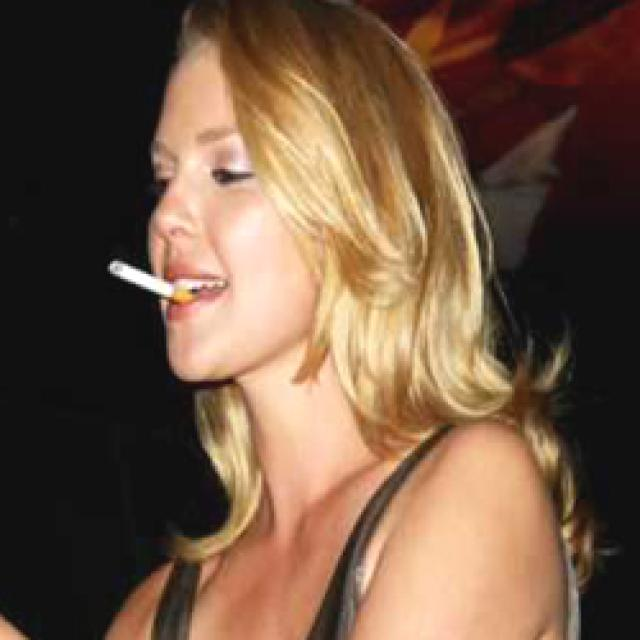Smooking: (100, 255, 202, 315)
